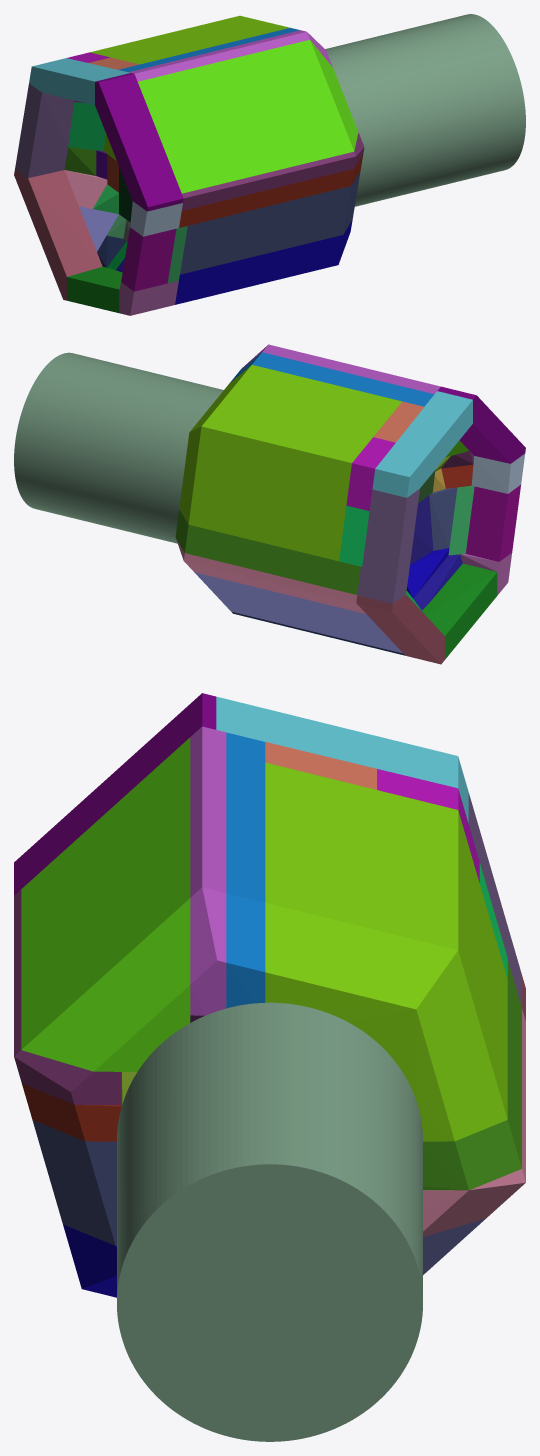
File: 2_canonical.obj
The picture shows the model from 3 angles, top to bottom: view 1: azimuth 30°, elevation 25°; view 2: azimuth 150°, elevation 25°; view 3: azimuth 270°, elevation 25°; orthographic projection. The views are drawn at different scales.
Parts seen in each view (by area): view 1: geometry_0, geometry_17, geometry_16, geometry_11, geometry_13, geometry_5, geometry_1, geometry_4, geometry_28, geometry_15, geometry_2, geometry_14 (+14 smaller); view 2: geometry_4, geometry_0, geometry_2, geometry_30, geometry_12, geometry_1, geometry_8, geometry_13, geometry_14, geometry_24, geometry_29, geometry_11 (+13 smaller); view 3: geometry_0, geometry_4, geometry_17, geometry_29, geometry_38, geometry_2, geometry_30, geometry_11, geometry_16, geometry_28, geometry_24, geometry_15 (+5 smaller).
Boxes of the visible parts, left/top/right/bottom form: geometry_0: left=325, top=14, right=525, bottom=206; geometry_17: left=138, top=40, right=358, bottom=193; geometry_16: left=180, top=171, right=360, bottom=274; geometry_11: left=95, top=73, right=183, bottom=211; geometry_13: left=14, top=169, right=102, bottom=300; geometry_5: left=175, top=220, right=352, bottom=304; geometry_1: left=15, top=83, right=74, bottom=177; geometry_4: left=90, top=15, right=289, bottom=160; geometry_28: left=181, top=132, right=364, bottom=210; geometry_15: left=179, top=154, right=363, bottom=227; geometry_2: left=29, top=58, right=129, bottom=105; geometry_14: left=121, top=227, right=176, bottom=291; geometry_4: left=179, top=365, right=401, bottom=561; geometry_0: left=14, top=352, right=223, bottom=543; geometry_2: left=372, top=391, right=472, bottom=497; geometry_30: left=175, top=509, right=360, bottom=594; geometry_12: left=194, top=572, right=402, bottom=653; geometry_1: left=357, top=488, right=419, bottom=603; geometry_8: left=422, top=563, right=497, bottom=659; geometry_13: left=356, top=594, right=444, bottom=664; geometry_14: left=466, top=485, right=520, bottom=561; geometry_24: left=176, top=538, right=365, bottom=613; geometry_29: left=229, top=352, right=434, bottom=406; geometry_11: left=437, top=386, right=525, bottom=463; geometry_0: left=117, top=1002, right=422, bottom=1441; geometry_4: left=265, top=762, right=507, bottom=1141; geometry_17: left=21, top=737, right=190, bottom=1071; geometry_29: left=226, top=732, right=265, bottom=1008; geometry_38: left=190, top=726, right=226, bottom=1015; geometry_2: left=216, top=696, right=468, bottom=823; geometry_30: left=423, top=960, right=521, bottom=1190; geometry_11: left=14, top=693, right=216, bottom=895; geometry_16: left=32, top=1120, right=116, bottom=1245; geometry_28: left=14, top=889, right=121, bottom=1104; geometry_24: left=423, top=1009, right=525, bottom=1236; geometry_15: left=22, top=1083, right=121, bottom=1141.
Bounding box in the file's own units: 0.035 × 0.0201 × 0.0201.
